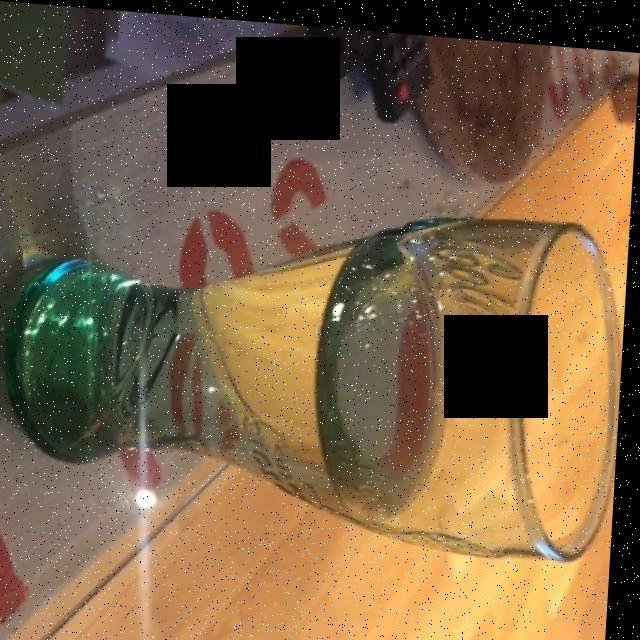water: (45, 231, 453, 516)
